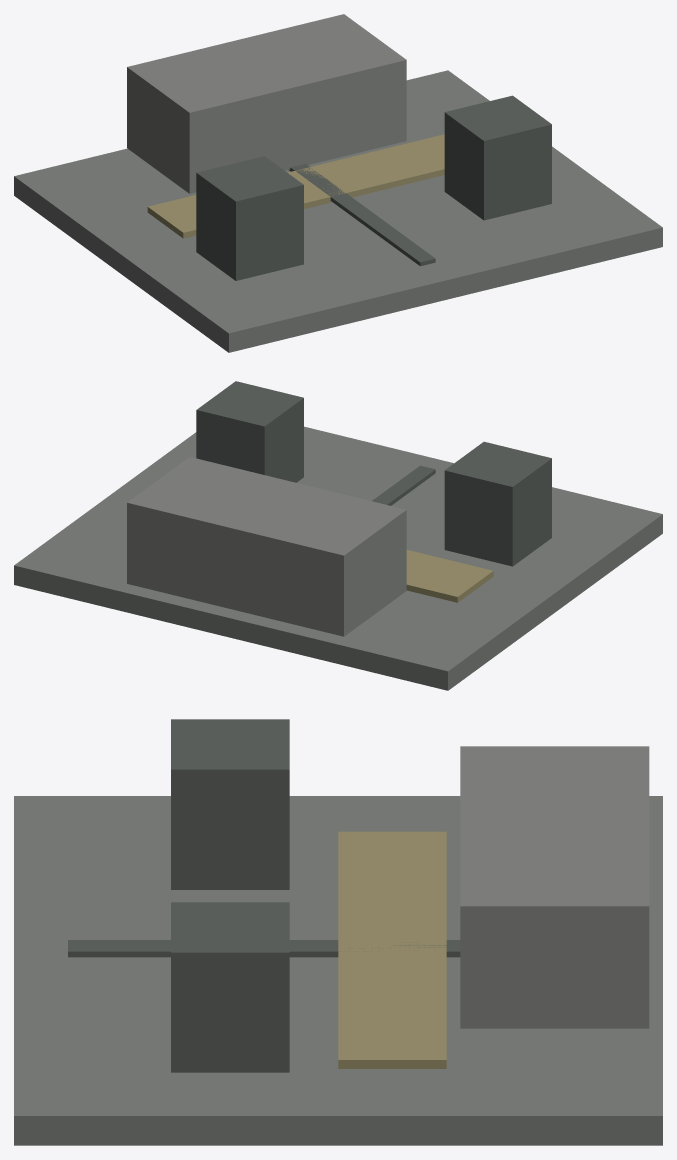
The model's file is airbase.glb.
The picture shows the model from 3 angles, top to bottom: view 1: azimuth 30°, elevation 25°; view 2: azimuth 150°, elevation 25°; view 3: azimuth 270°, elevation 25°; orthographic projection. The views are drawn at different scales.
Parts seen in each view (by area): view 1: p0, p2, p4, p3, p1, p5; view 2: p0, p2, p3, p4, p1, p5; view 3: p0, p2, p1, p3, p4, p5.
Part boxes in pixels (box(x1,y1,x2,y2)): p0: box(14, 70, 662, 352); p2: box(127, 14, 406, 193); p4: box(444, 95, 551, 220); p3: box(196, 156, 303, 280); p1: box(147, 134, 444, 238); p5: box(289, 163, 435, 266); p0: box(14, 426, 662, 690); p2: box(127, 457, 406, 636); p3: box(444, 441, 551, 566); p4: box(196, 381, 303, 482); p1: box(406, 550, 493, 602); p5: box(372, 465, 435, 505); p0: box(14, 796, 662, 1145); p2: box(460, 746, 649, 1028); p1: box(338, 831, 446, 1068); p3: box(171, 719, 289, 889); p4: box(171, 902, 289, 1072); p5: box(68, 940, 460, 957).
Bounding box in the file's own units: 14 × 3.25 × 12.
